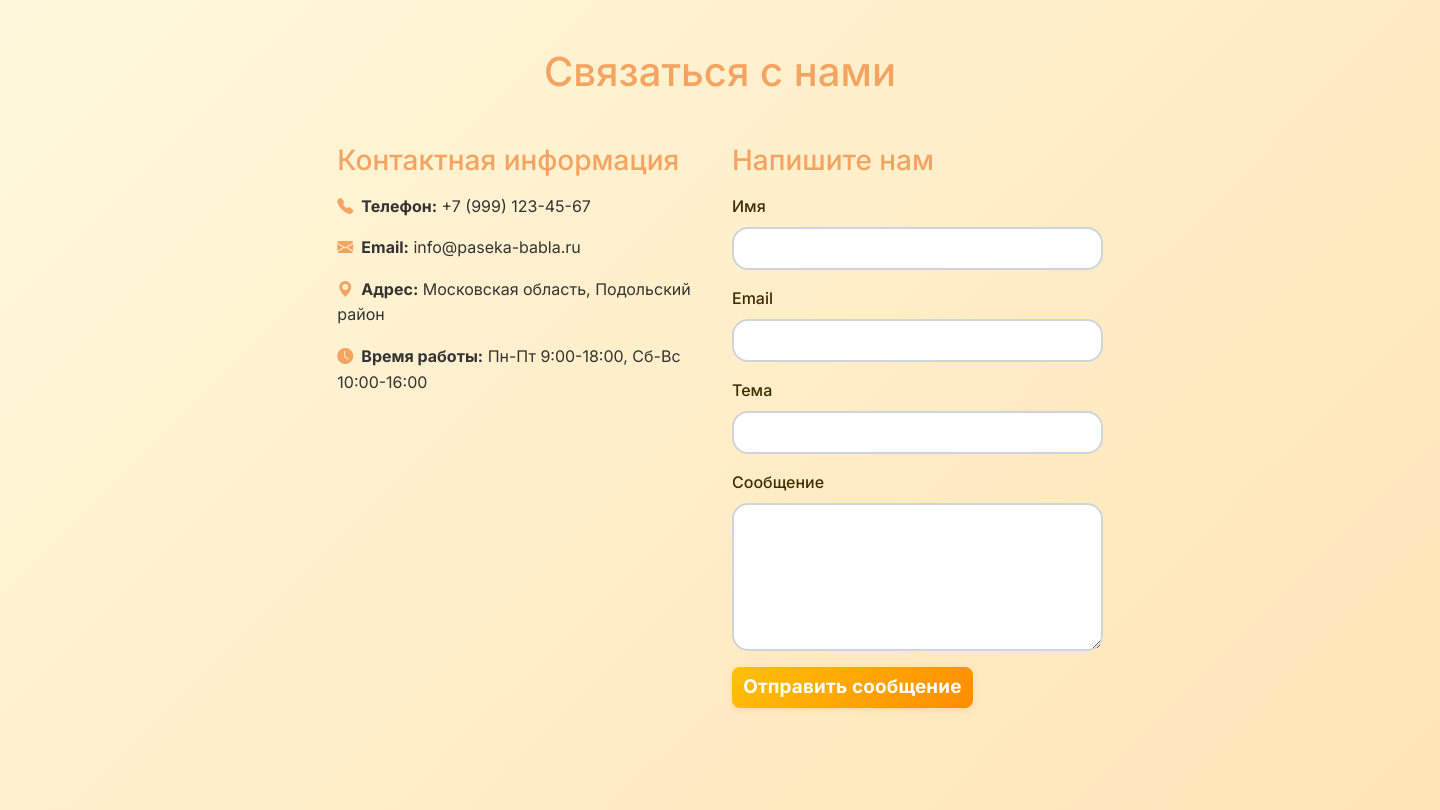
Contact Form › показывает спиннер во время отправки
The image size is (1440, 810).
Type "Иван Иванов" into the field labelled "Имя" at [917, 248], box [732, 227, 1103, 270]
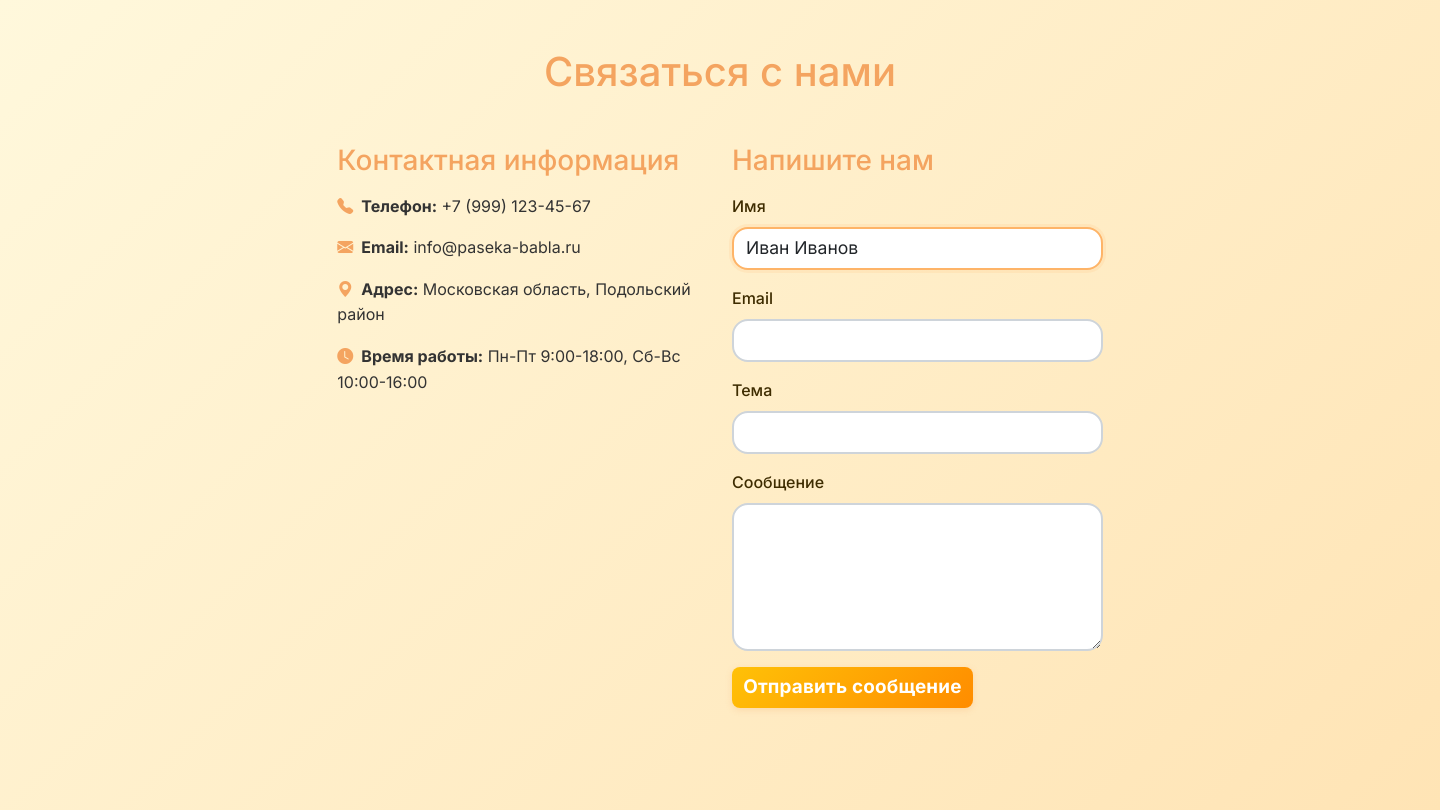
Type "ivan@example.com" into the field labelled "Email" at [917, 340], box [732, 319, 1103, 362]
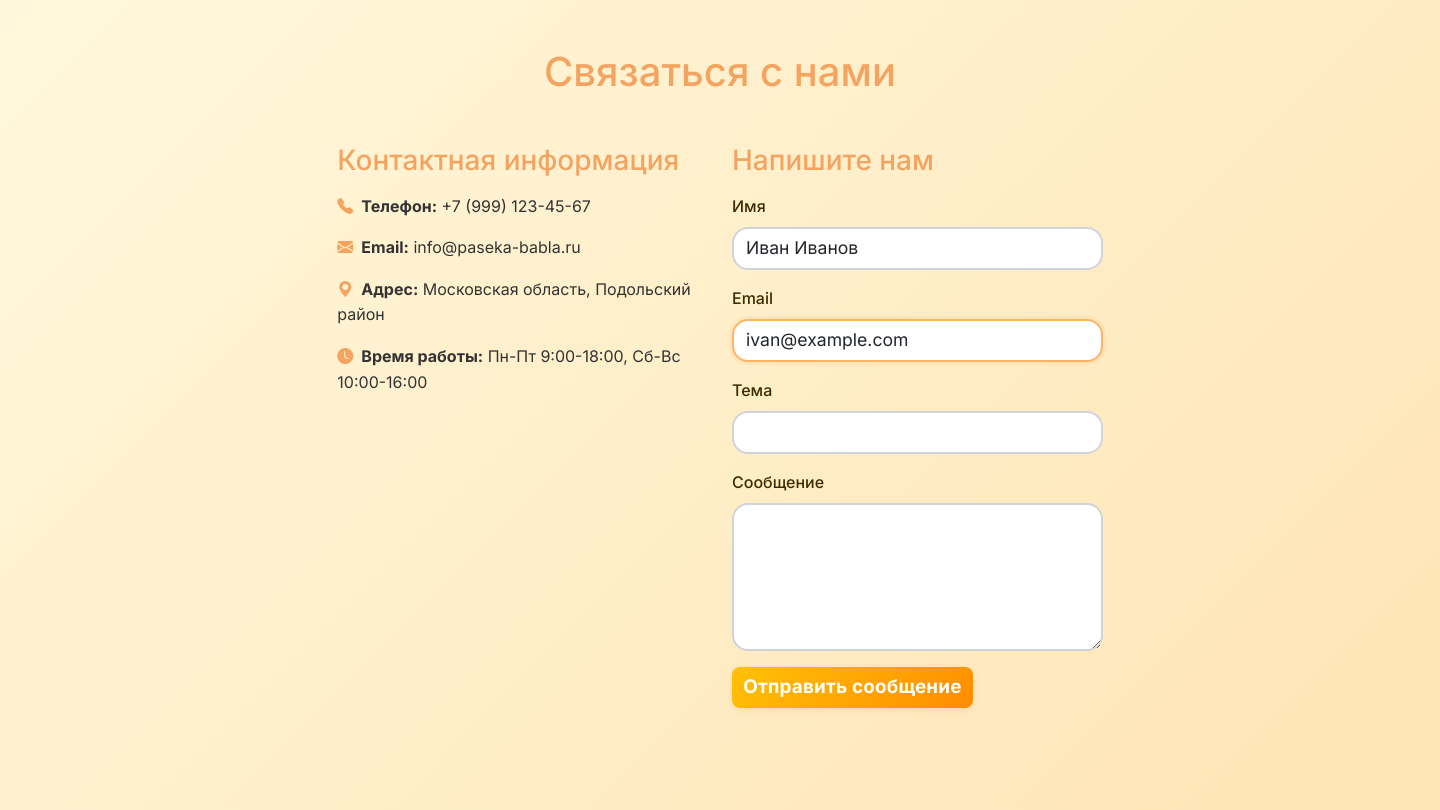
Type "Тестовое сообщение" into the field labelled "Тема" at [917, 432], box [732, 411, 1103, 454]
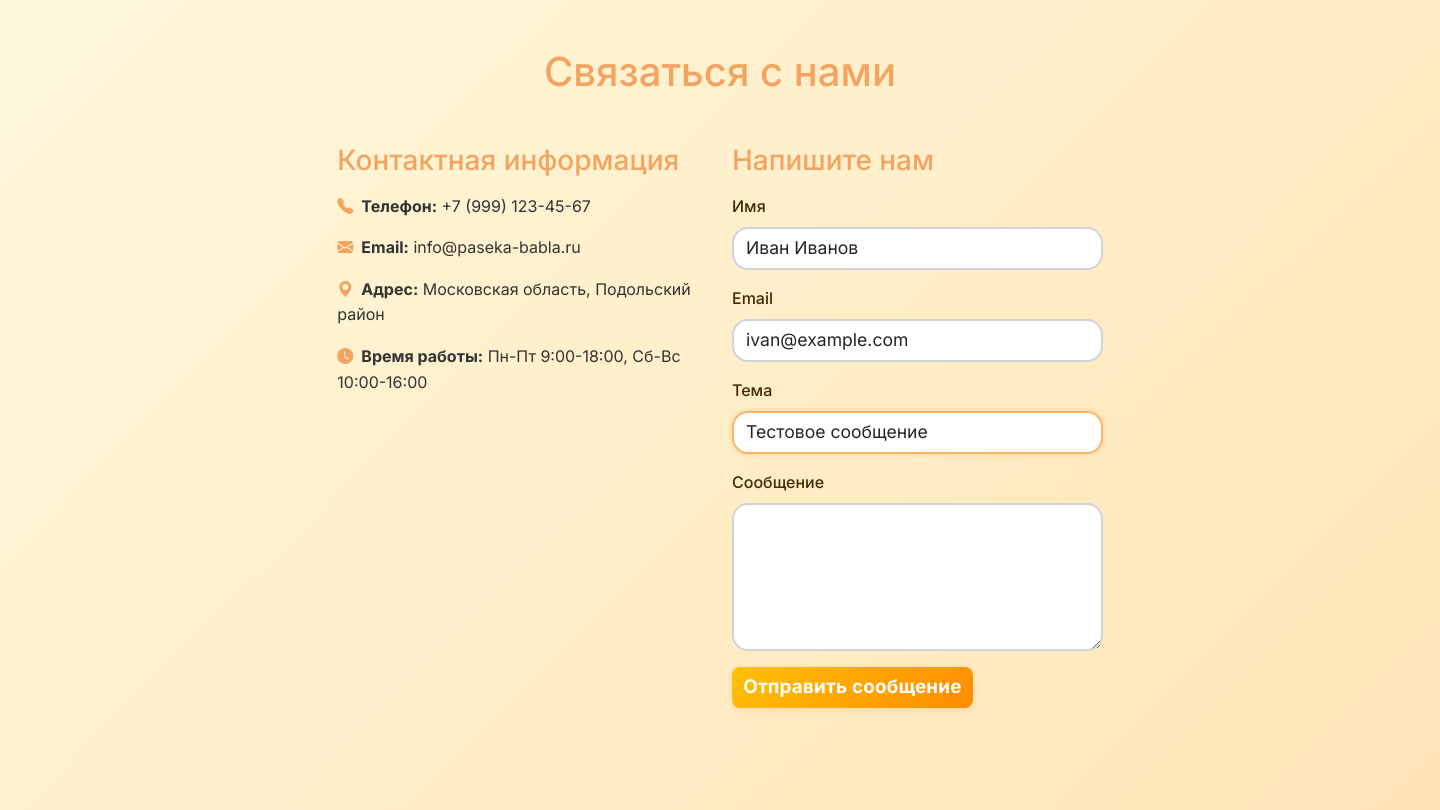
Type "Это тестовое сообщение для проверки формы" into the text box labelled "Сообщение" at [917, 577], box [732, 503, 1103, 651]
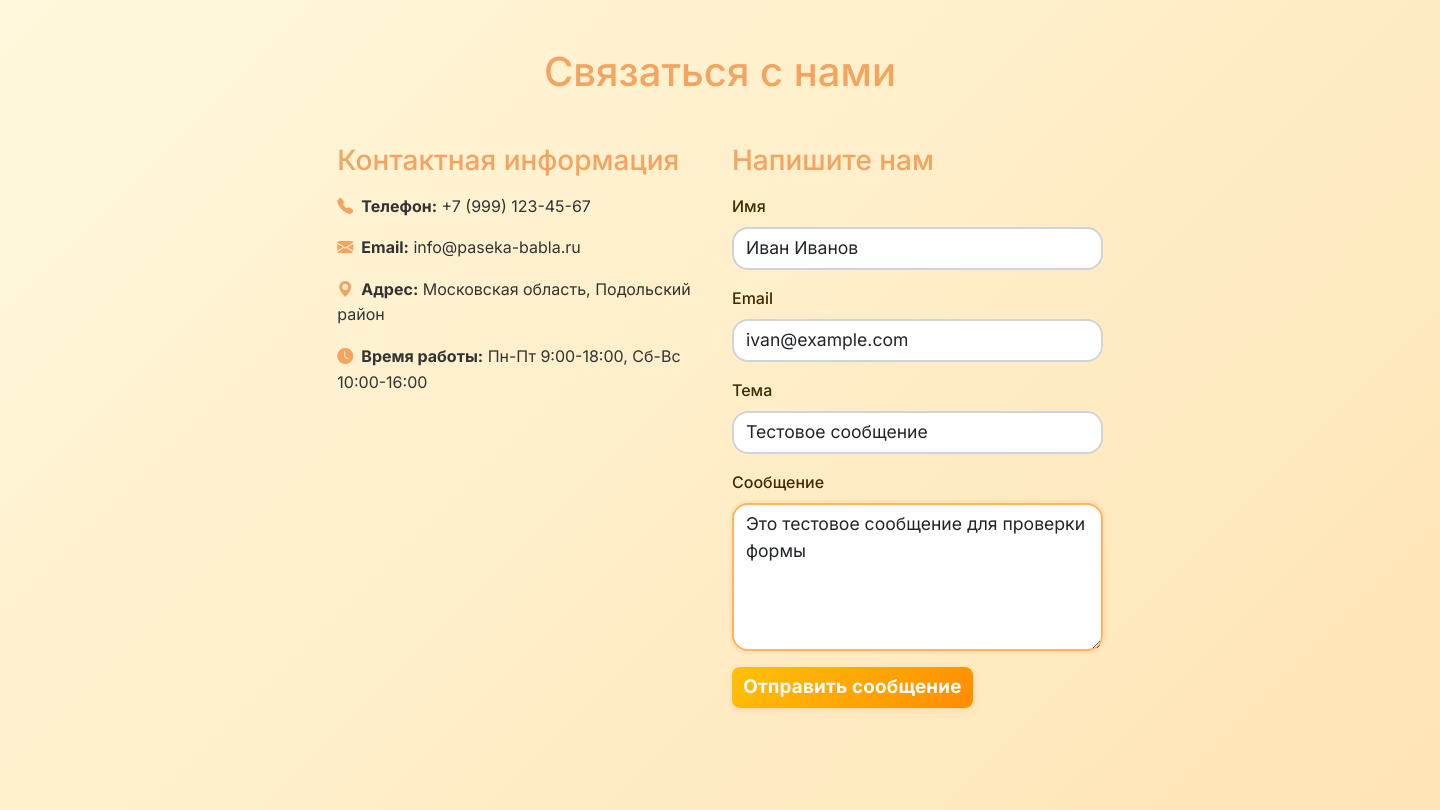
Click the button "Отправить сообщение" at [852, 688], box [732, 667, 973, 708]
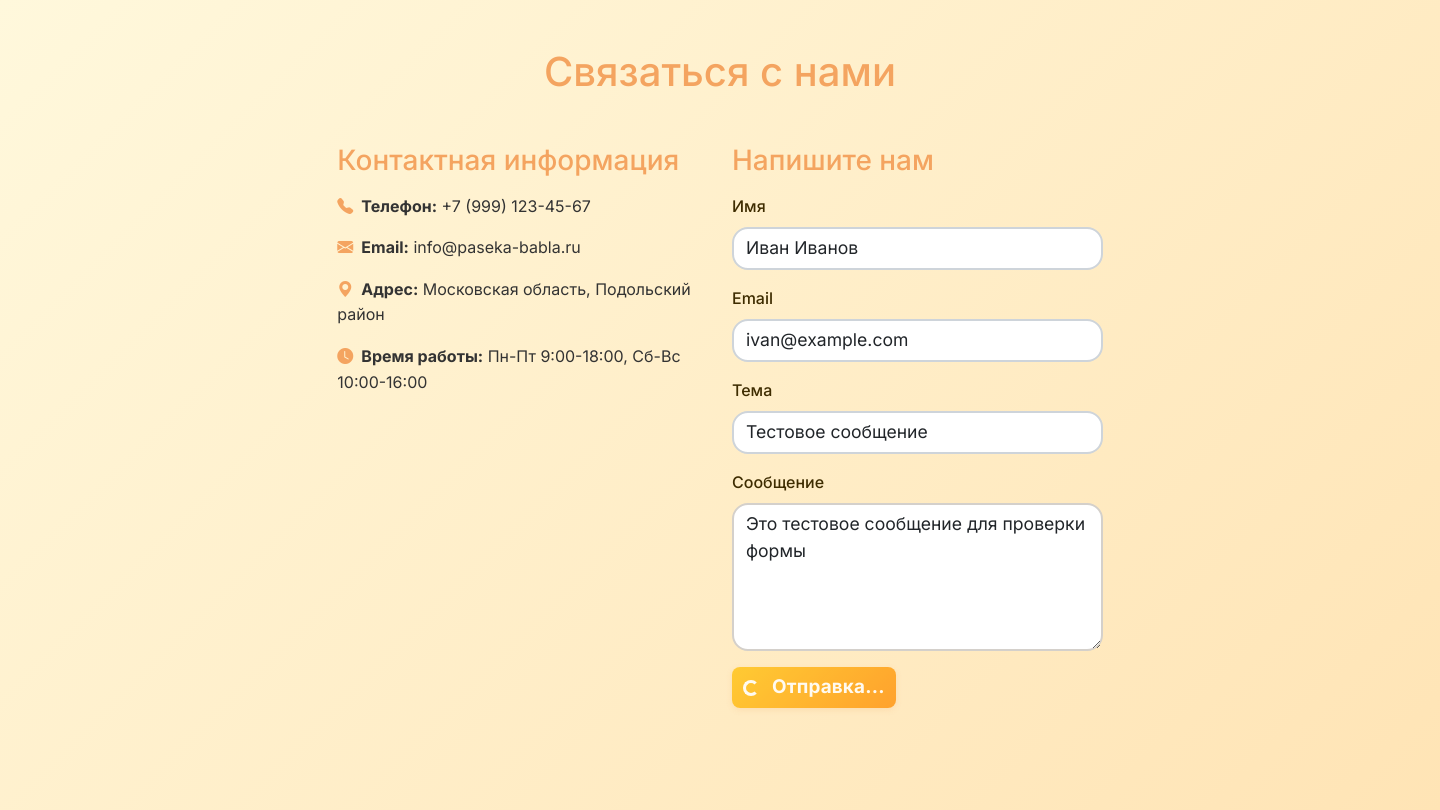
Now the button is disabled, box [732, 667, 896, 708]
Now the button shows "Отправка", box [732, 667, 896, 708]
Now the message with class "spinner-border" is shown, box [743, 680, 759, 696]
